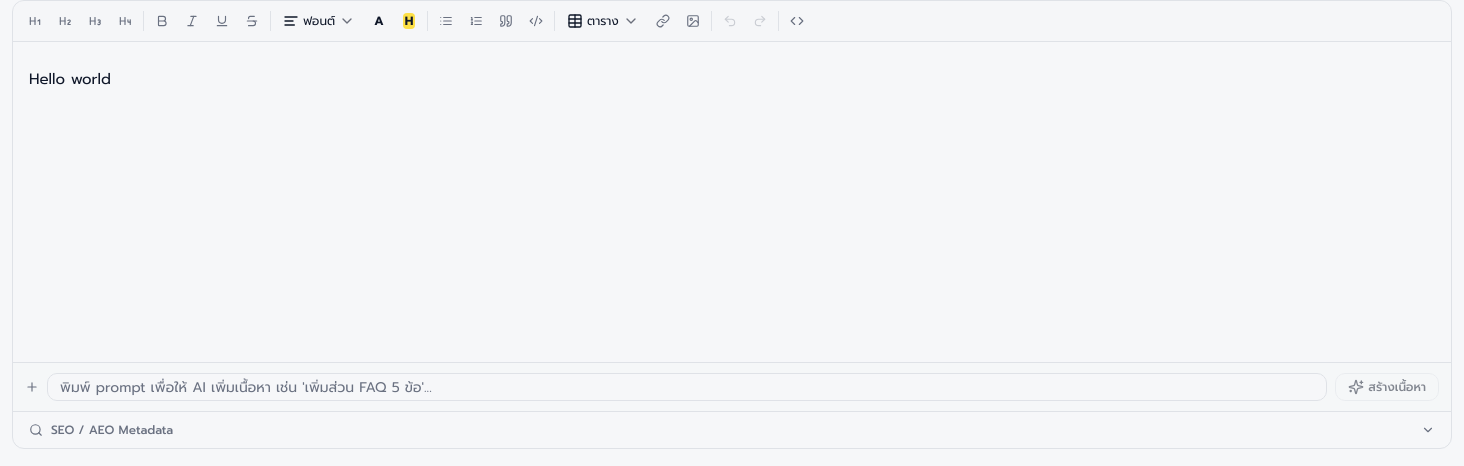
Test: ArticleEditor › toggles to HTML source mode
Click the button titled "HTML Source" at x=797, y=21, box [783,7,811,35]
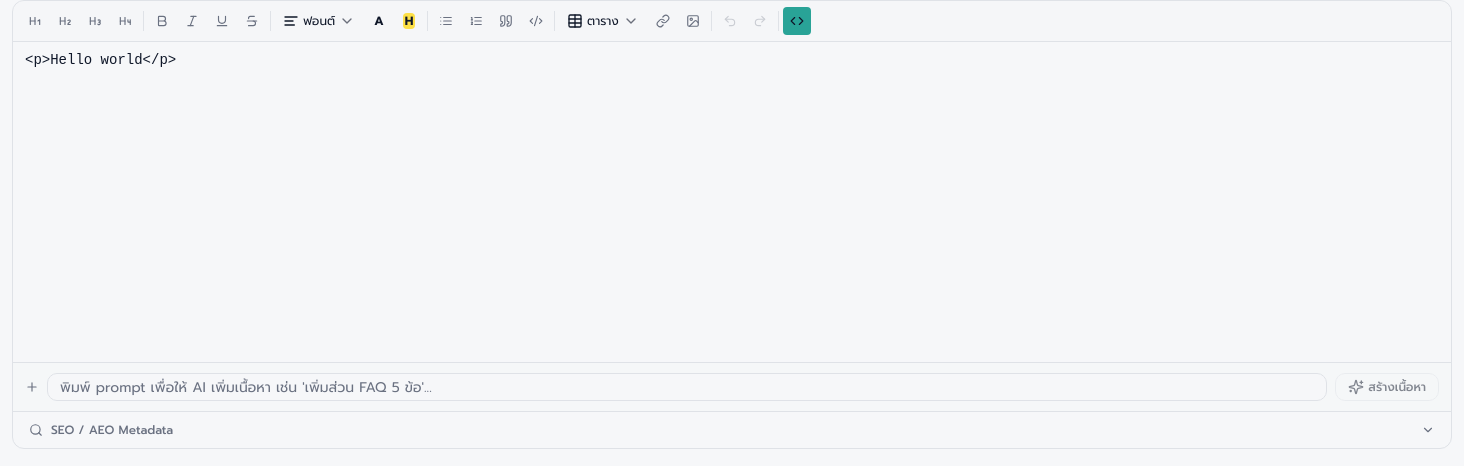
Expected: the text box with placeholder "<p>HTML ของบทความ...</p>" is shown
